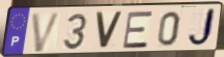0: (157, 10, 183, 49)
3: (61, 12, 90, 52)
E: (121, 10, 154, 51)
J: (186, 7, 218, 50)
V: (30, 11, 63, 54), (94, 11, 125, 51)
